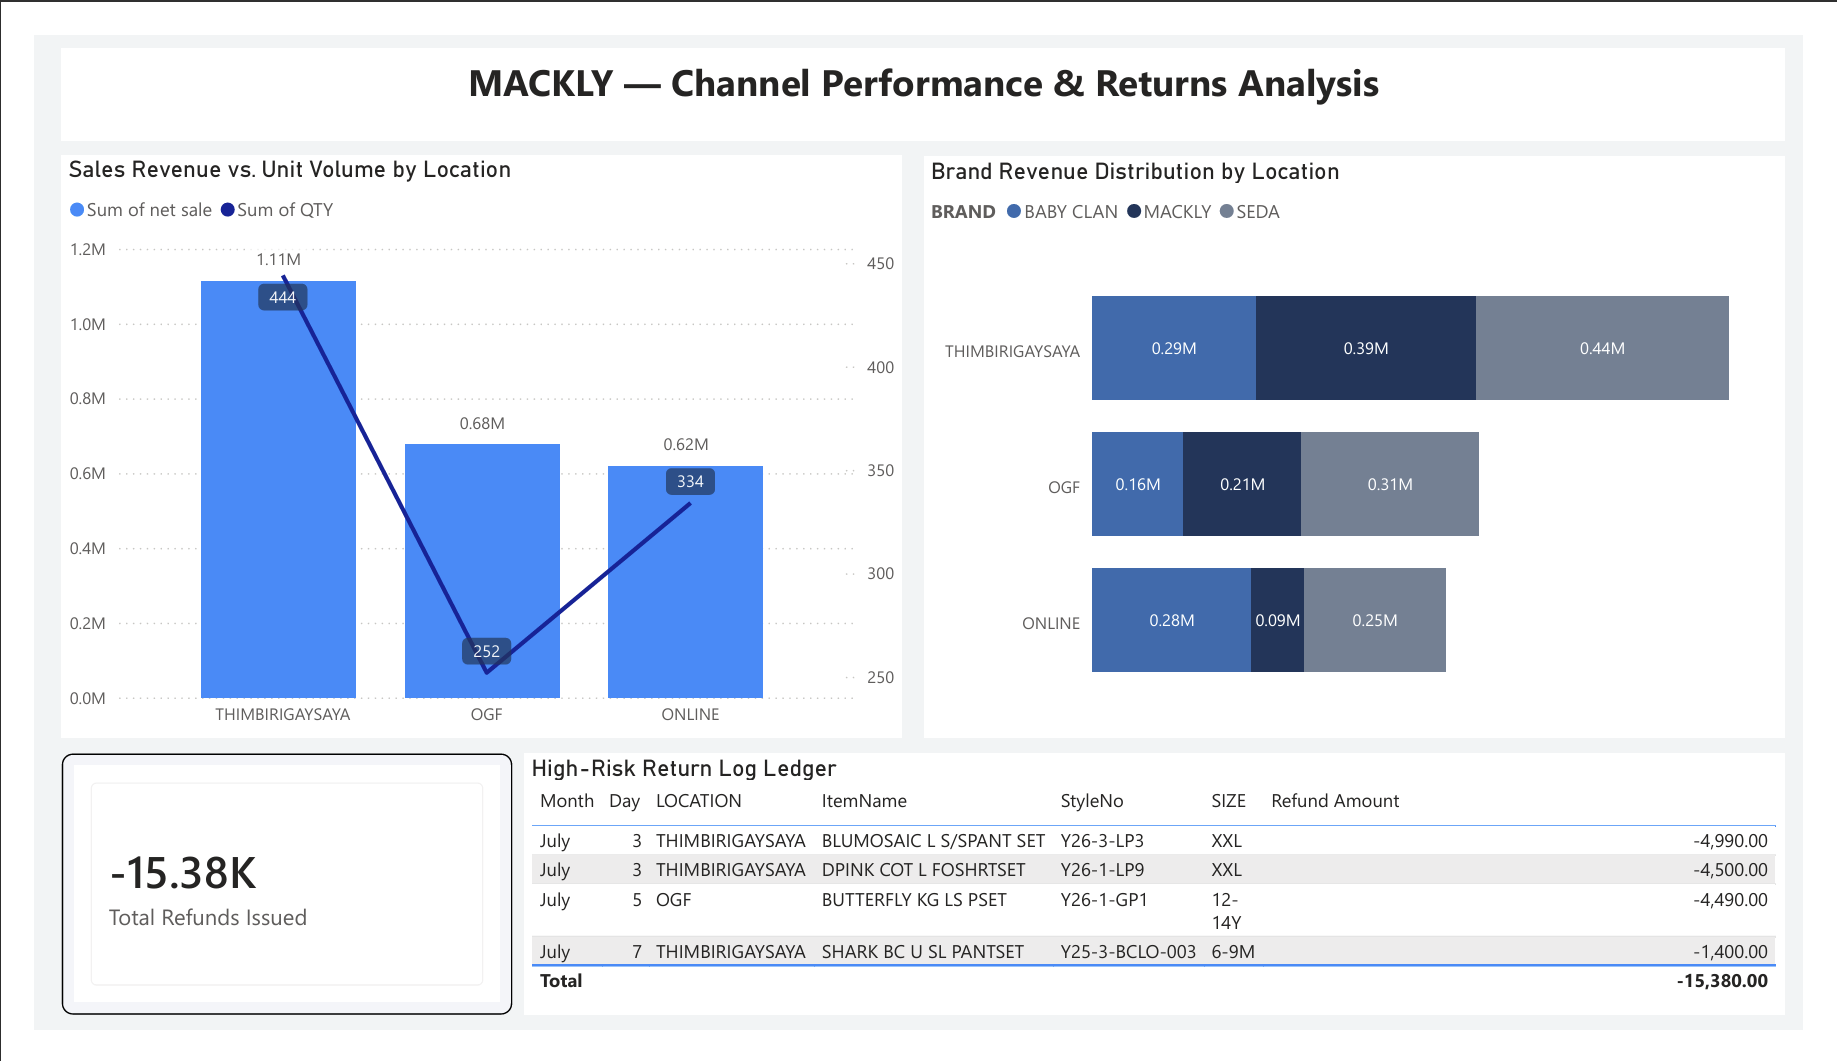

The page's visual inventory and layout, read from the dashboard file:
{"tool":"powerbi","page":{"name":"Channel Performance & Return Analysis","canvas":[1280,720],"ordinal":2},"visuals":[{"type":"textbox","box":[19.6,9.8,1247.9,67.5],"z":0},{"type":"lineStackedColumnComboChart","title":"Sales Revenue vs. Unit Volume by Location","fields":{"Category":["Data.LOCATION"],"Y":["Sum(Data.net sale)"],"Y2":["Sum(Data.QTY)"]},"box":[19.6,87.1,608.6,422.1],"z":1000},{"type":"barChart","title":"Brand Revenue Distribution by Location","fields":{"Category":["Data.LOCATION"],"Y":["Sum(Data.net sale)"],"Series":["Data.BRAND"]},"box":[644.2,88.3,623.3,420.9],"z":2000},{"type":"cardVisual","fields":{"Data":["Sum(Data.net sale)"]},"box":[19.6,520.2,326.4,189],"z":3000},{"type":"tableEx","title":"High-Risk Return Log Ledger","fields":{"Values":["Data.Transaction Date.Variation.Date Hierarchy.Month","Data.Transaction Date.Variation.Date Hierarchy.Day","Data.LOCATION","Data.ItemName","Data.StyleNo","Data.SIZE","Sum(Data.net sale)"]},"box":[354.6,520.2,912.9,189],"z":4000}]}

Visuals, with their boxes in screenshot pixels (x1, y1, x2, y2), scaled from the page's 1280x720 canvas onto the 1837x1061 screenshot:
textbox: <region>28, 14, 1819, 114</region>
"Sales Revenue vs. Unit Volume by Location" lineStackedColumnComboChart: <region>28, 128, 902, 750</region>
"Brand Revenue Distribution by Location" barChart: <region>925, 130, 1819, 750</region>
cardVisual - Sum(Data.net sale): <region>28, 767, 497, 1045</region>
"High-Risk Return Log Ledger" tableEx: <region>509, 767, 1819, 1045</region>
